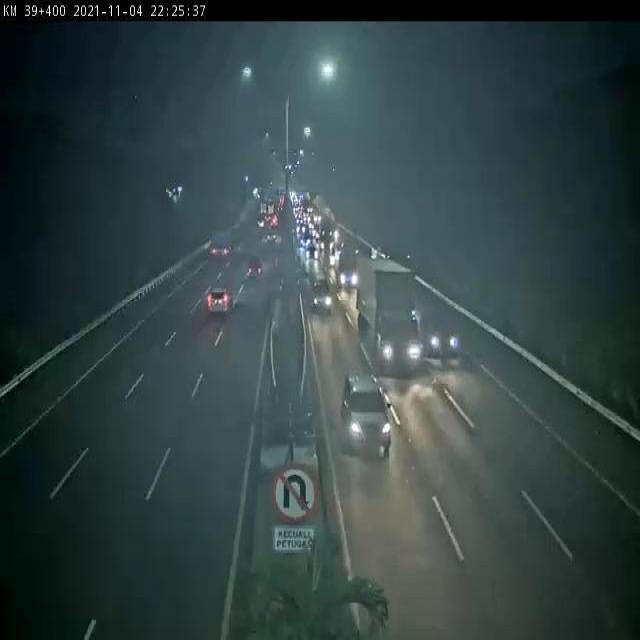car: (340, 376, 392, 456), (417, 293, 461, 360), (335, 246, 362, 290), (307, 273, 336, 311), (205, 284, 232, 316), (242, 256, 265, 285)
truck-s-: (205, 228, 232, 264)
truck-xl-: (354, 260, 415, 367)
